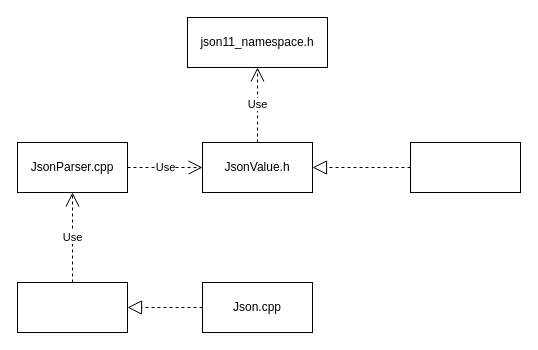
The diagram is 538 pixels wide and 350 high, and some of its shapes have lost their labels. Here are the shapes that lost their labels. From the top down, the centre of each, then its label:
At point 465,167: "JsonValue.cpp".
At point 72,307: "Json.h".
